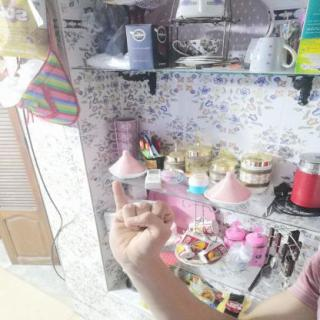MEEM: (99, 171, 181, 267)
